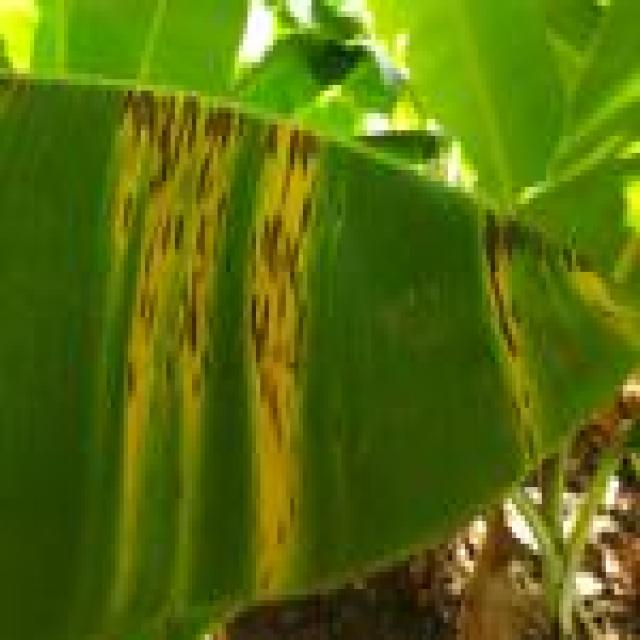Early_rust: (85, 38, 358, 586), (473, 169, 619, 450)
